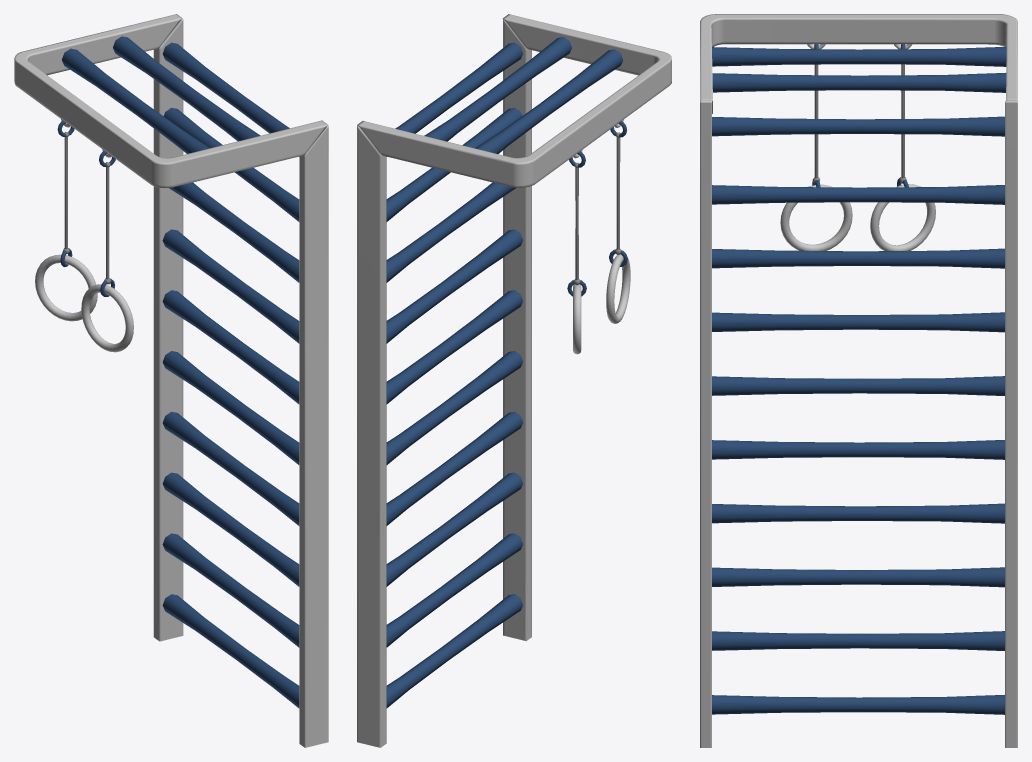
Rendered from stairs.fbx.
The picture shows the model from 3 angles, left to right: view 1: azimuth 30°, elevation 25°; view 2: azimuth 150°, elevation 25°; view 3: azimuth 270°, elevation 25°; orthographic projection. The views are drawn at different scales.
Parts seen in each view (by area): view 1: stairs6; view 2: stairs6; view 3: stairs6.
Part boxes in pixels (x1,y1,x2,y2): stairs6: (14, 14, 328, 747); stairs6: (357, 14, 671, 747); stairs6: (700, 14, 1017, 747).
Size of the model in its own units: 0.4941 by 1.6 by 0.71.
